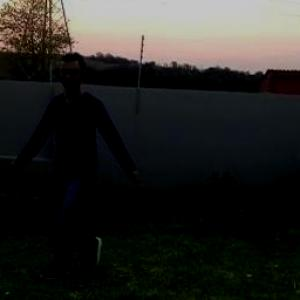land: (14, 52, 151, 281)
